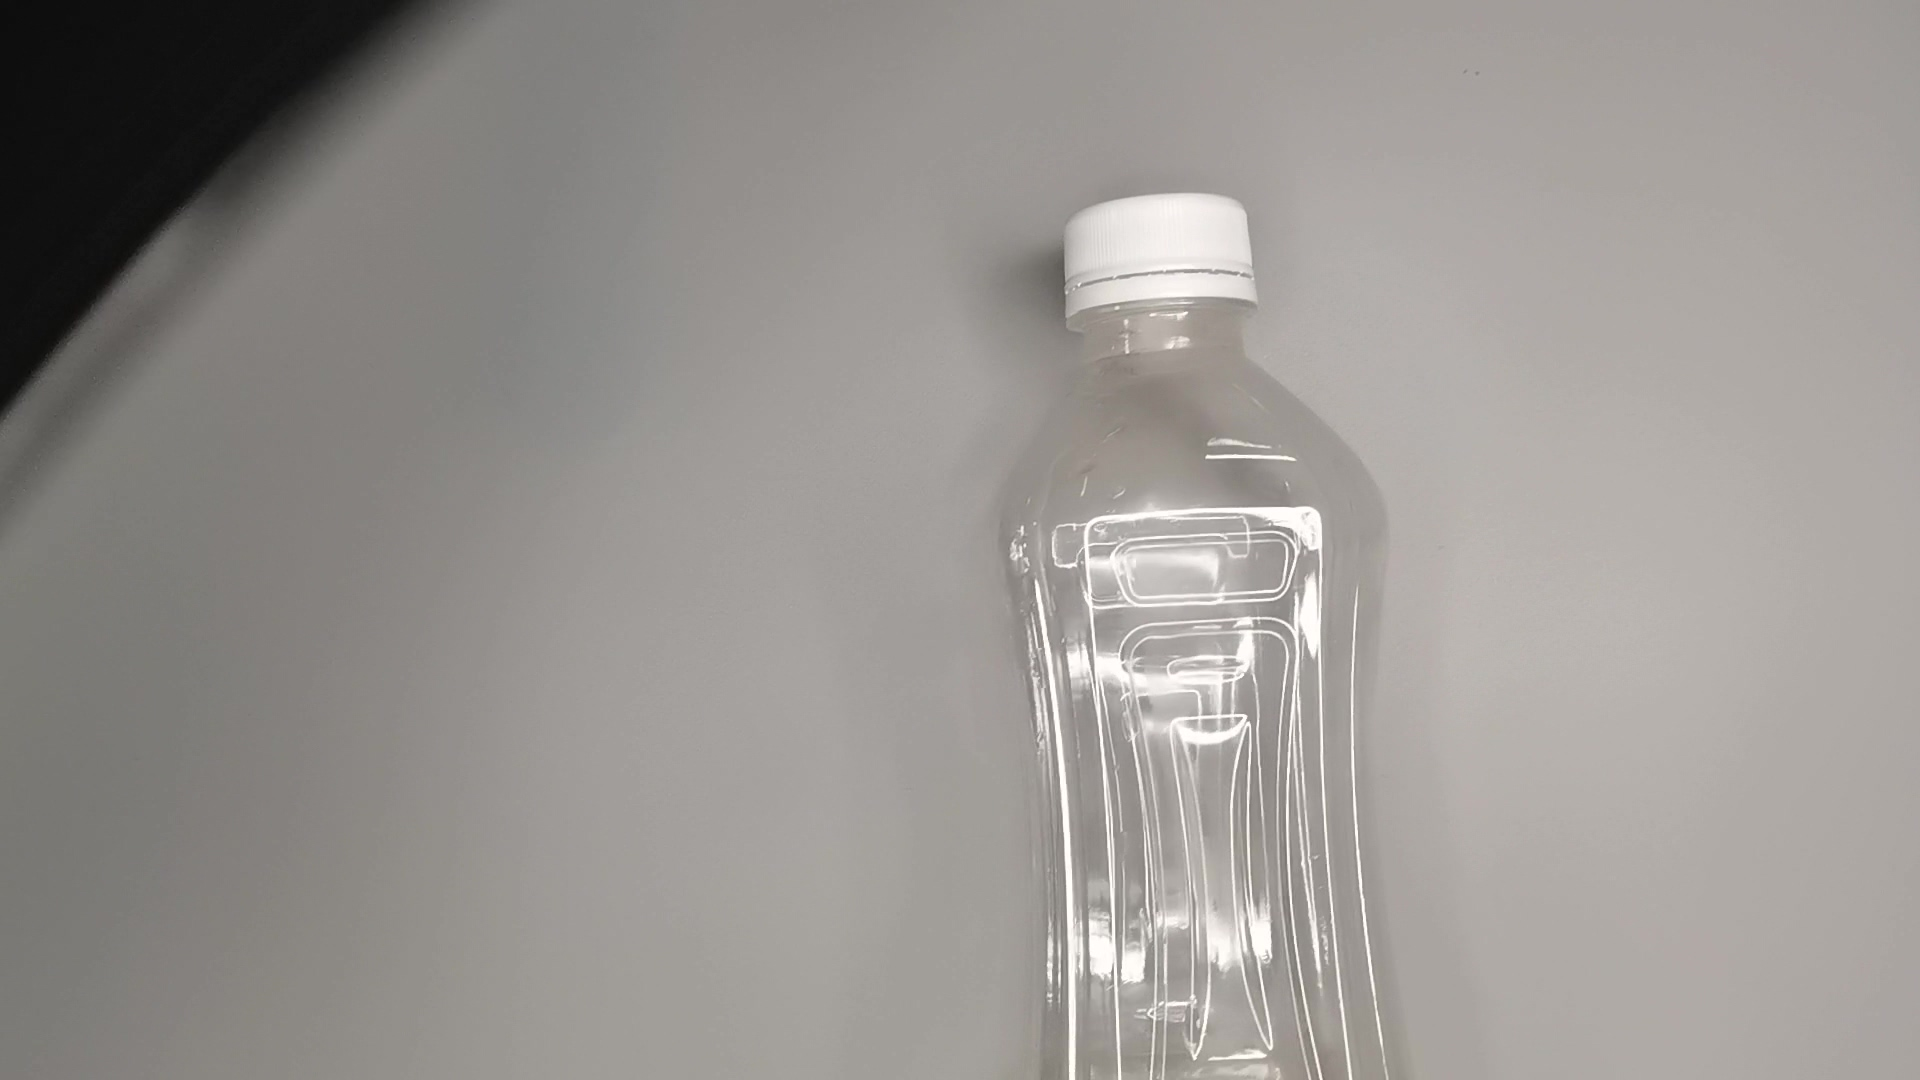bottle: (992, 182, 1422, 1080)
